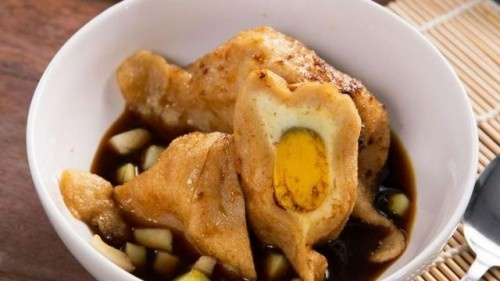pempek: (39, 34, 432, 273)
